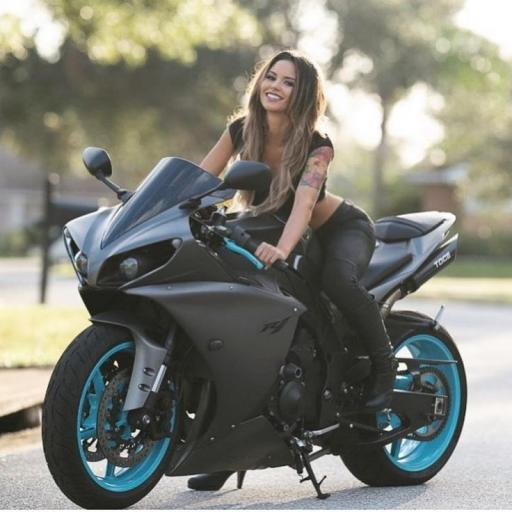helmet: (39, 146, 470, 507), (196, 48, 398, 415)
